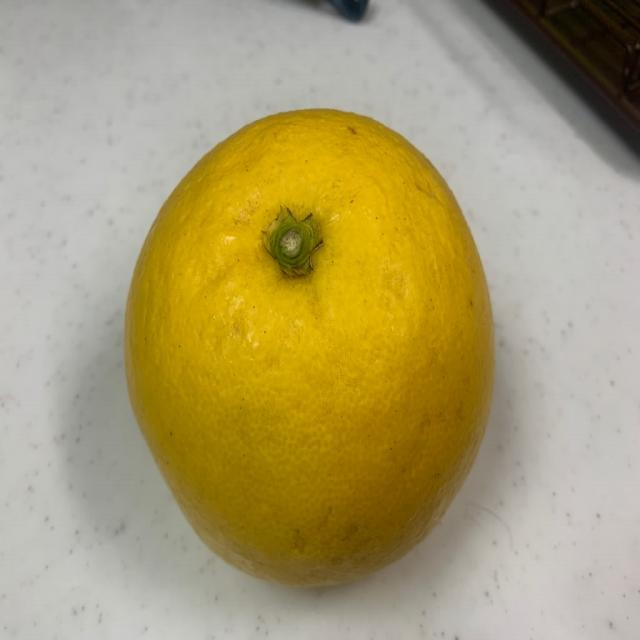Orange: (121, 103, 513, 590)
